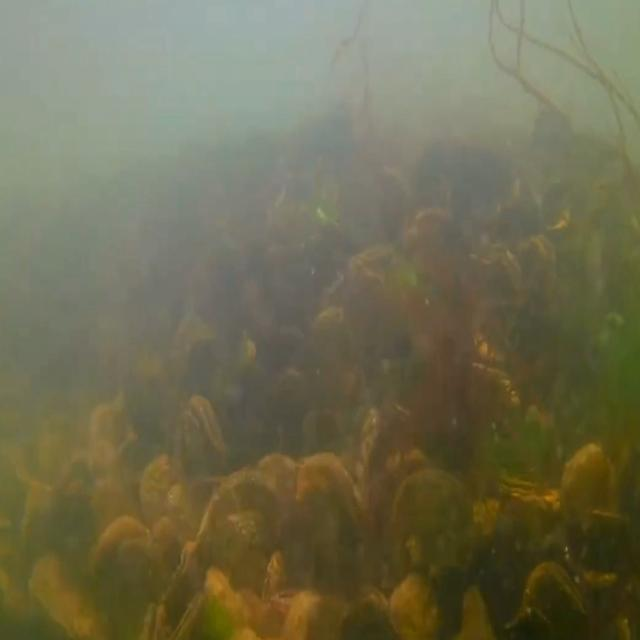Oyster-Closed: (150, 470, 308, 640), (558, 445, 616, 611), (520, 560, 594, 640)
Oyster-Indeterminate: (256, 453, 380, 640), (387, 468, 477, 640), (89, 517, 171, 640), (137, 455, 198, 584), (22, 552, 104, 640), (492, 234, 562, 300), (467, 249, 526, 312), (348, 240, 396, 289)
Oyster-Open: (171, 395, 229, 512), (347, 398, 382, 503)
